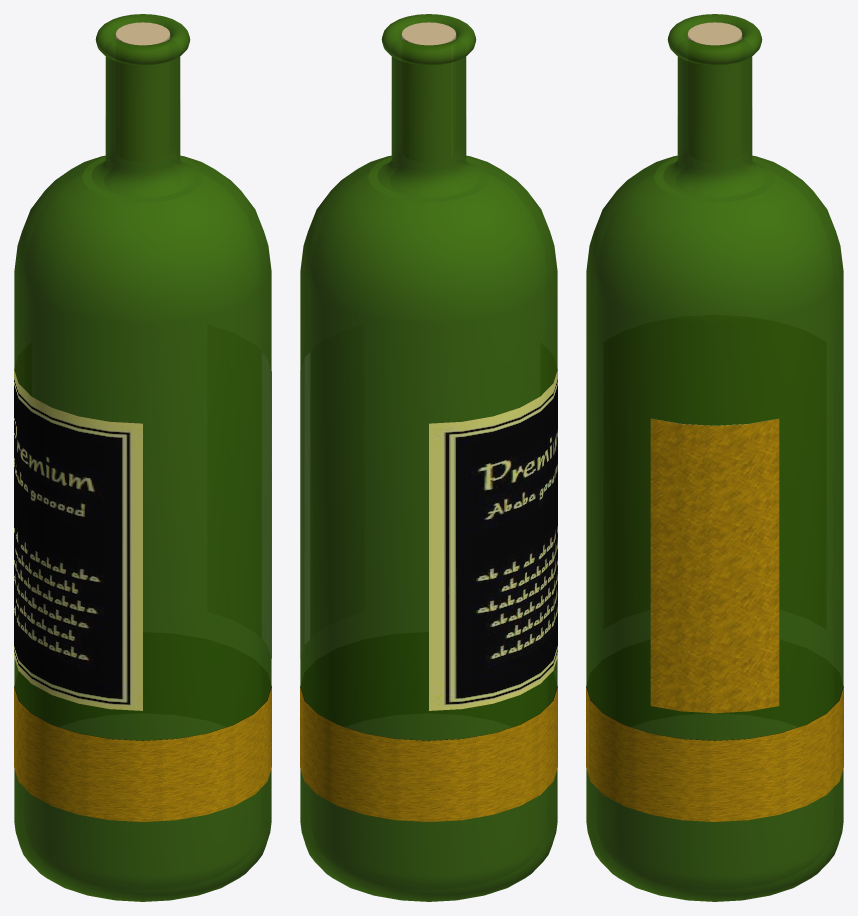
3 renders of one model, left to right at view 1: azimuth 30°, elevation 25°; view 2: azimuth 150°, elevation 25°; view 3: azimuth 270°, elevation 25°, orthographic.
Parts seen in each view (by area): view 1: mesh4-geometry-0, mesh11-geometry-1, mesh6-geometry-1, mesh5-geometry-0, mesh1-geometry-0; view 2: mesh4-geometry-0, mesh11-geometry-1, mesh6-geometry-1, mesh5-geometry-0, mesh1-geometry-0; view 3: mesh4-geometry-0, mesh5-geometry-1, mesh6-geometry-1, mesh1-geometry-0.
Boxes of the visible parts, box(x1,y1,x2,y2) form: mesh4-geometry-0: box(14, 14, 271, 901); mesh11-geometry-1: box(14, 369, 142, 710); mesh6-geometry-1: box(14, 687, 271, 821); mesh5-geometry-0: box(262, 353, 270, 654); mesh1-geometry-0: box(115, 22, 170, 156); mesh4-geometry-0: box(300, 14, 557, 901); mesh11-geometry-1: box(429, 369, 557, 710); mesh6-geometry-1: box(300, 687, 557, 821); mesh5-geometry-0: box(300, 353, 309, 658); mesh1-geometry-0: box(401, 22, 456, 156); mesh4-geometry-0: box(586, 14, 843, 901); mesh5-geometry-1: box(650, 418, 779, 713); mesh6-geometry-1: box(586, 687, 843, 821); mesh1-geometry-0: box(687, 22, 742, 45).
Size of the model in its own units: 0.2617 by 0.929 by 0.2617.
